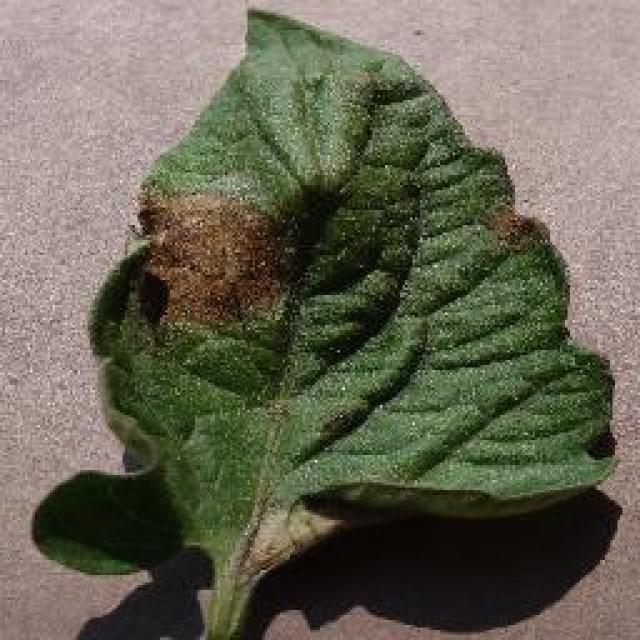Tomato Late Blight: (90, 160, 578, 352)
